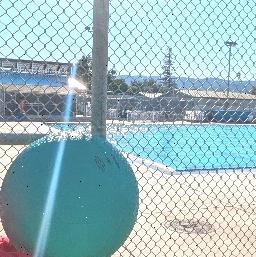algae: (0, 131, 141, 257)
